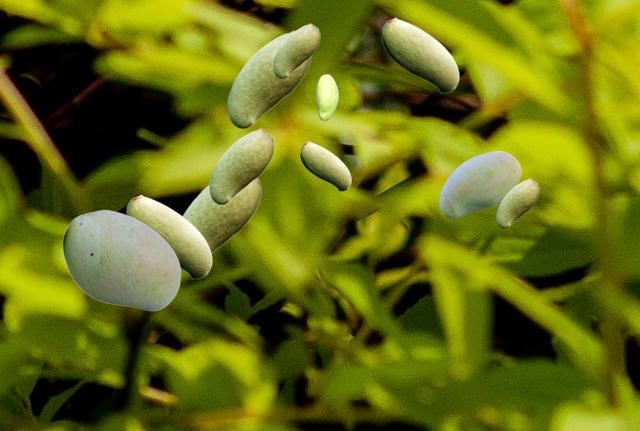green_mango: (62, 209, 180, 310), (227, 30, 310, 127), (126, 194, 211, 278), (183, 178, 260, 254), (382, 17, 458, 92), (439, 151, 520, 217), (209, 128, 273, 203), (273, 23, 319, 77), (300, 141, 350, 190), (496, 178, 538, 227), (316, 74, 337, 119)
